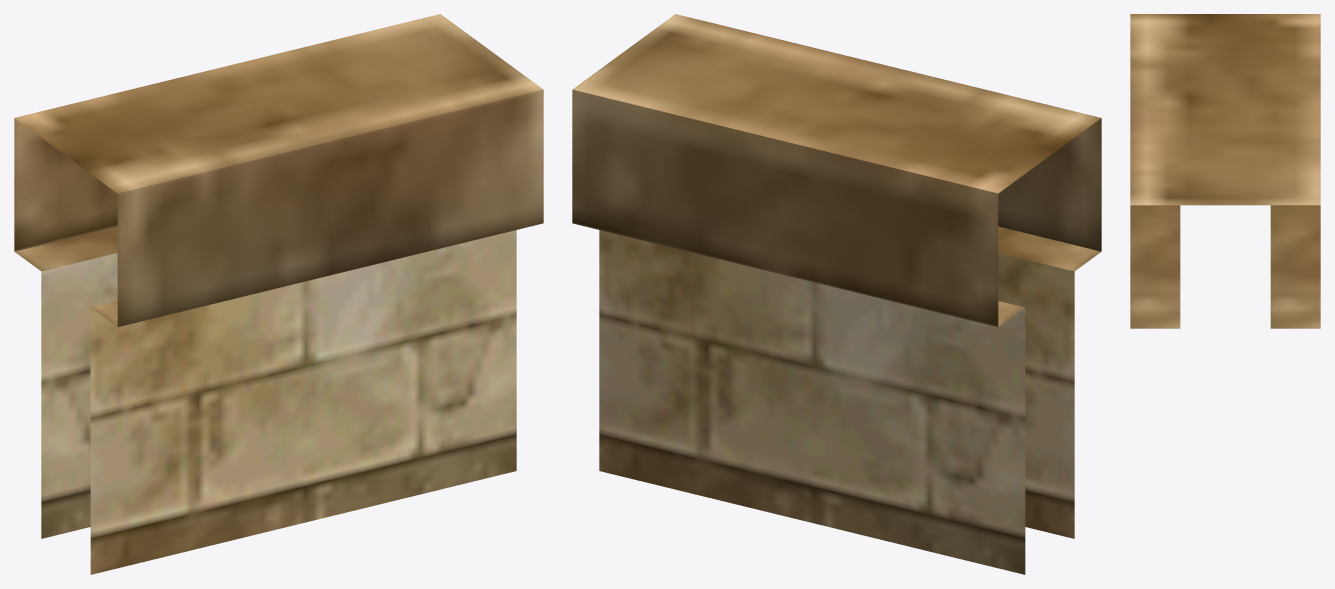
The model's file is DesertTown - wall.fbx.
The picture shows the model from 3 angles, left to right: view 1: azimuth 30°, elevation 25°; view 2: azimuth 150°, elevation 25°; view 3: azimuth 270°, elevation 25°; orthographic projection. The views are drawn at different scales.
Visible parts, largest first — view 1: DesertTown_wall; view 2: DesertTown_wall; view 3: DesertTown_wall.
Boxes of the visible parts, left/top/right/bottom form: DesertTown_wall: left=14, top=14, right=543, bottom=574; DesertTown_wall: left=572, top=14, right=1101, bottom=574; DesertTown_wall: left=1130, top=14, right=1320, bottom=328.
Size of the model in its own units: 1 by 0.9 by 0.42.
